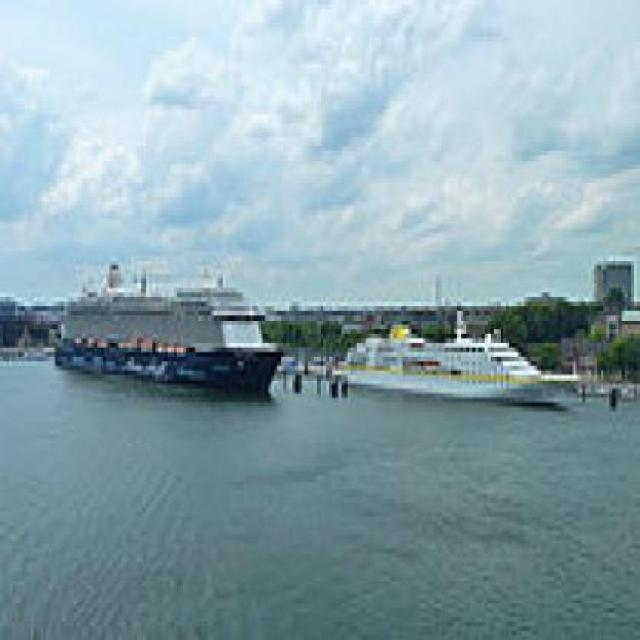cruise: (43, 257, 291, 417), (327, 298, 595, 426)
